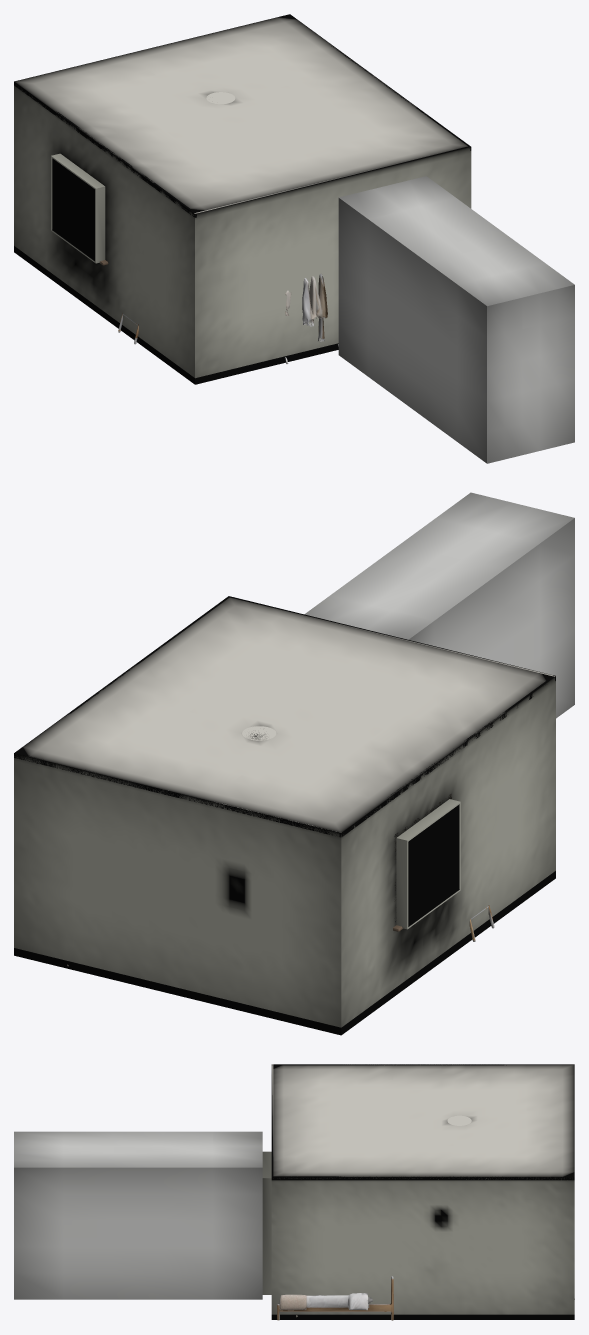
The model's file is room.glb.
The picture shows the model from 3 angles, top to bottom: view 1: azimuth 30°, elevation 25°; view 2: azimuth 150°, elevation 25°; view 3: azimuth 270°, elevation 25°; orthographic projection. The views are drawn at different scales.
Parts seen in each view (by area): view 1: corridor, ceiling, wall_back, wall_left, trim, window_glass, window_niche, yw_rack; view 2: ceiling, wall_front, wall_left, corridor, trim, window_glass, window_niche; view 3: corridor, wall_right, ceiling, trim, yw_bed, doorframe.
Boxes of the visible parts, bbox=[...] form: corridor: bbox=[338, 176, 574, 463]; ceiling: bbox=[14, 14, 467, 212]; wall_back: bbox=[195, 147, 471, 381]; wall_left: bbox=[14, 85, 194, 384]; trim: bbox=[14, 20, 471, 384]; window_glass: bbox=[52, 158, 94, 260]; window_niche: bbox=[51, 153, 108, 265]; yw_rack: bbox=[284, 273, 338, 363]; ceiling: bbox=[15, 597, 551, 832]; wall_front: bbox=[14, 754, 341, 1034]; wall_left: bbox=[341, 677, 555, 1033]; corridor: bbox=[304, 492, 574, 718]; trim: bbox=[14, 596, 555, 1035]; window_glass: bbox=[408, 805, 458, 926]; window_niche: bbox=[393, 794, 460, 931]; corridor: bbox=[14, 1131, 262, 1299]; wall_right: bbox=[271, 1177, 574, 1319]; ceiling: bbox=[273, 1064, 574, 1177]; trim: bbox=[271, 1064, 574, 1319]; yw_bed: bbox=[277, 1276, 393, 1320]; doorframe: bbox=[262, 1151, 271, 1294].
Bounding box in the file's own units: 4.7 × 2.61 × 9.25.
Materials: 124 (77 with a texture image).
